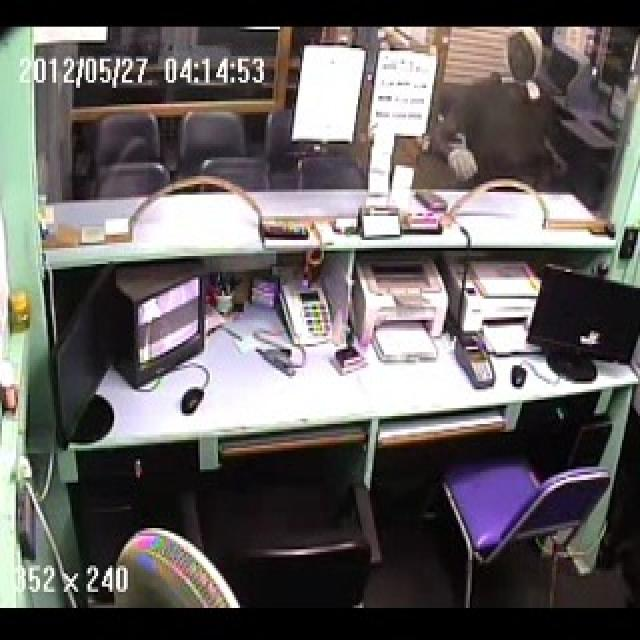thief: (464, 22, 556, 192)
